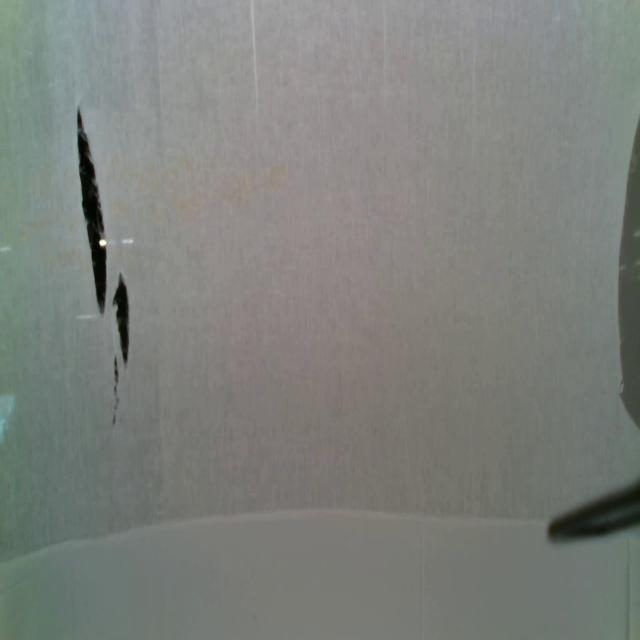crease: (250, 0, 262, 119), (625, 539, 632, 639)
hole: (615, 115, 640, 431), (74, 105, 108, 316), (114, 272, 130, 369), (112, 354, 120, 427)
